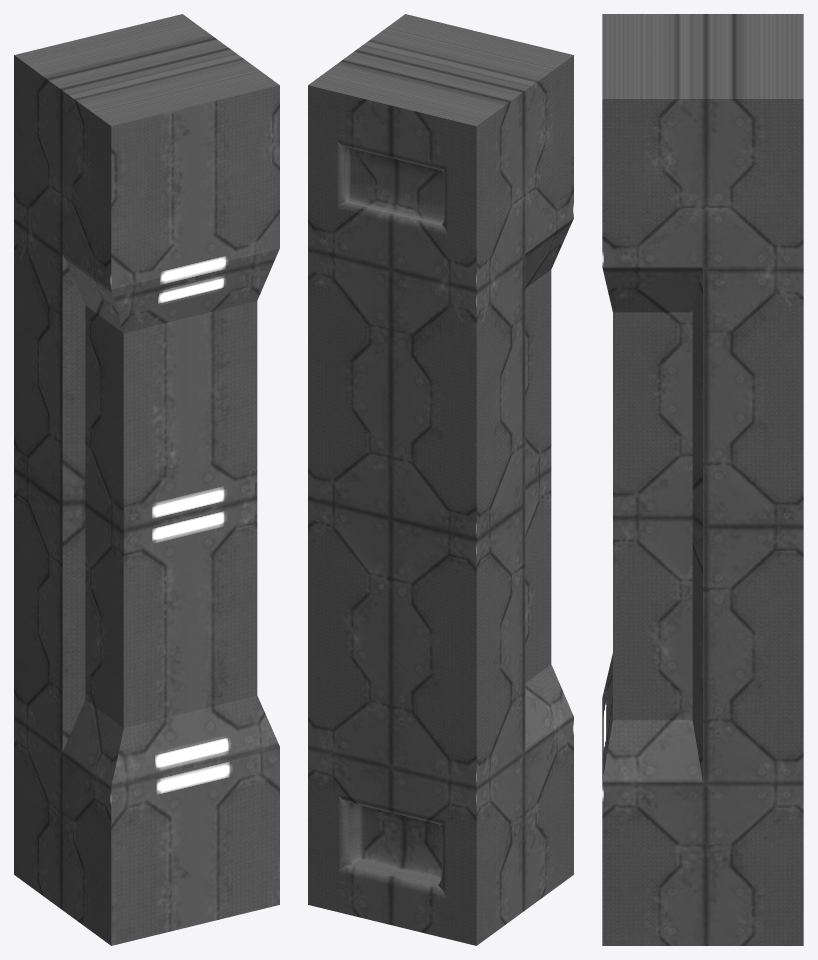
Rendered from Pillar_2.fbx.
3 views of the same model, side by side, from view 1: azimuth 30°, elevation 25°; view 2: azimuth 150°, elevation 25°; view 3: azimuth 270°, elevation 25° (orthographic). The views are drawn at different scales.
Parts seen in each view (by area): view 1: Pillar_2; view 2: Pillar_2; view 3: Pillar_2.
Part boxes in pixels (<box>): Pillar_2: <box>14,14,279,945</box>; Pillar_2: <box>308,14,573,945</box>; Pillar_2: <box>602,14,803,945</box>.
Size of the model in its own units: 200 by 930 by 200.
Materials: 1 (1 with a texture image).
